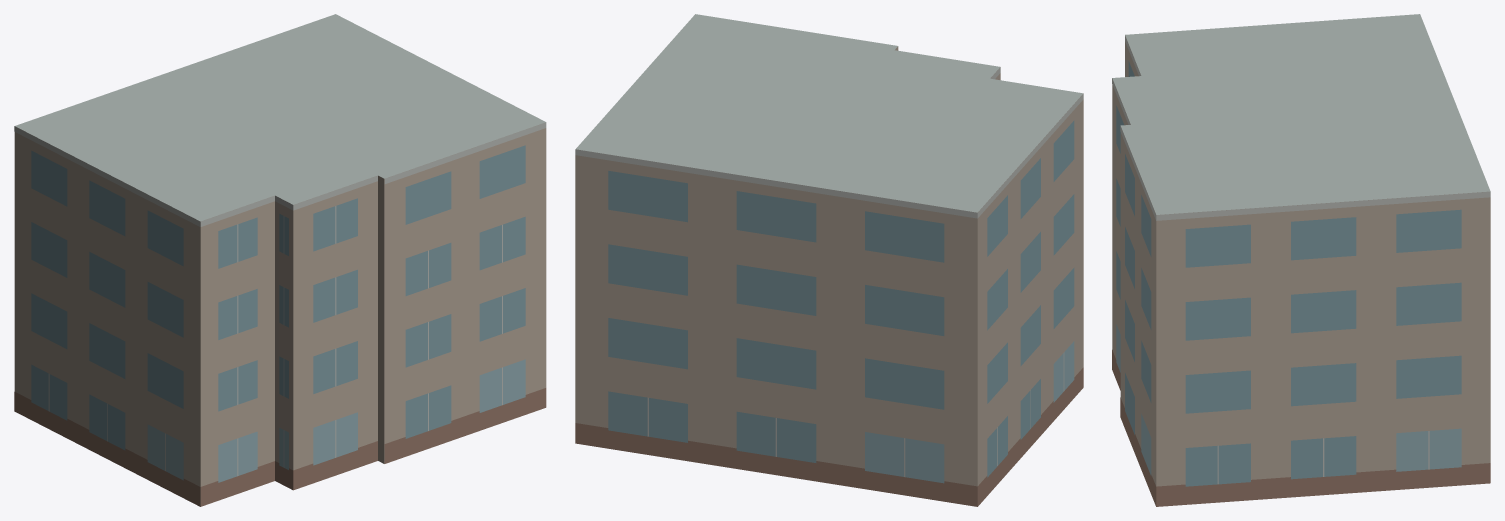
The model's file is survey-upis-32778417.glb.
The picture shows the model from 3 angles, left to right: view 1: azimuth 30°, elevation 25°; view 2: azimuth 150°, elevation 25°; view 3: azimuth 270°, elevation 25°; orthographic projection. The views are drawn at different scales.
Visible parts, largest first — view 1: survey-upis-32778417.tmp; view 2: survey-upis-32778417.tmp; view 3: survey-upis-32778417.tmp.
Boxes of the visible parts, left/top/right/bottom form: survey-upis-32778417.tmp: left=14, top=14, right=546, bottom=506; survey-upis-32778417.tmp: left=575, top=14, right=1083, bottom=506; survey-upis-32778417.tmp: left=1112, top=14, right=1490, bottom=506.
Bounding box in the file's own units: 18.03 × 12.2 × 14.35.
